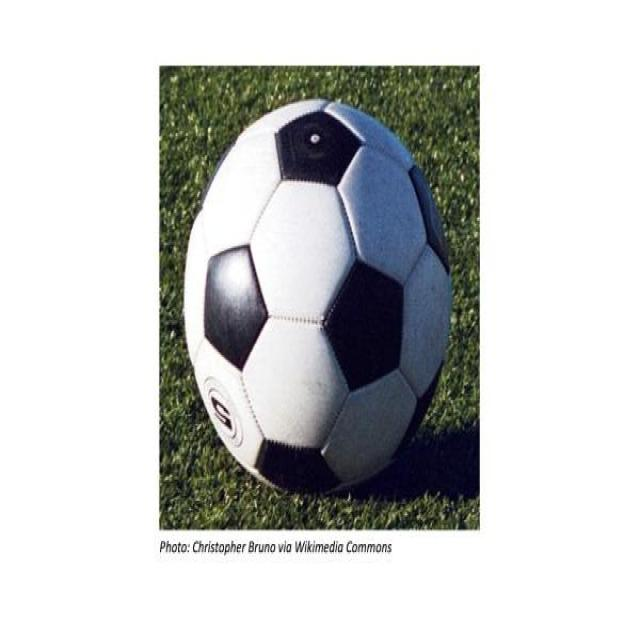Soccer Ball: (187, 99, 450, 504)
